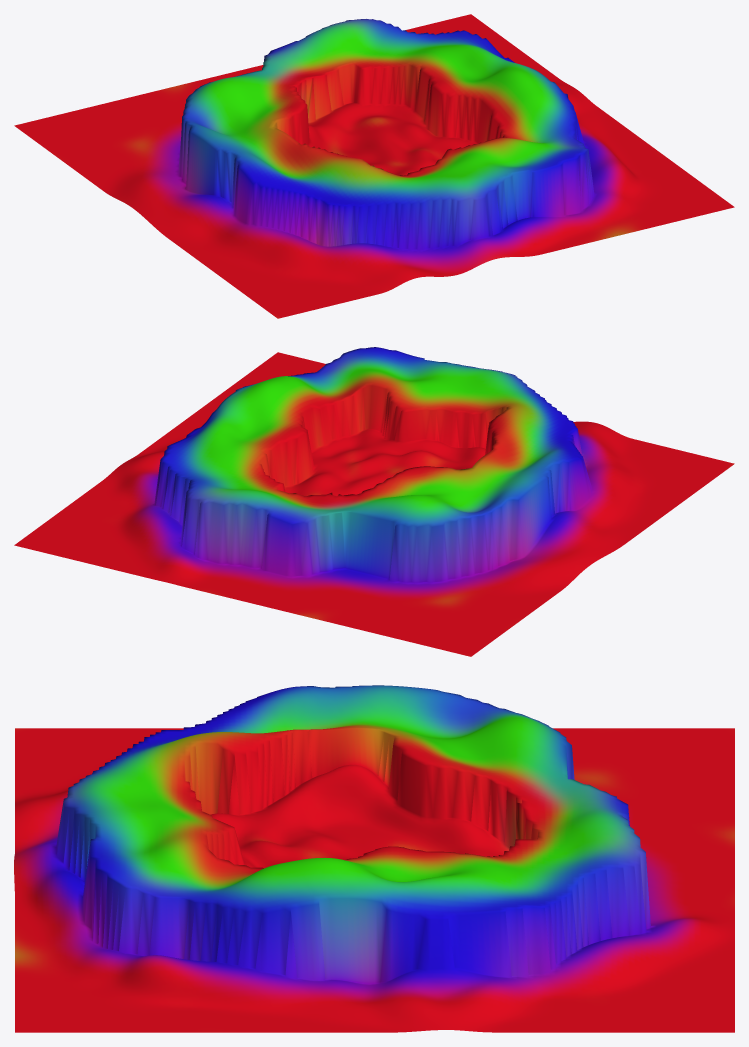
The model's file is fsafsafsa 1.fbx.
3 views of the same model, one above another, from view 1: azimuth 30°, elevation 25°; view 2: azimuth 150°, elevation 25°; view 3: azimuth 270°, elevation 25° (orthographic). The views are drawn at different scales.
Parts seen in each view (by area): view 1: Plane; view 2: Plane; view 3: Plane.
Boxes of the visible parts, x1,y1,x2,y2 form: Plane: (14,14,734,318); Plane: (14,347,734,656); Plane: (14,685,734,1032).
Bounding box in the file's own units: 2001 × 317 × 2003.
